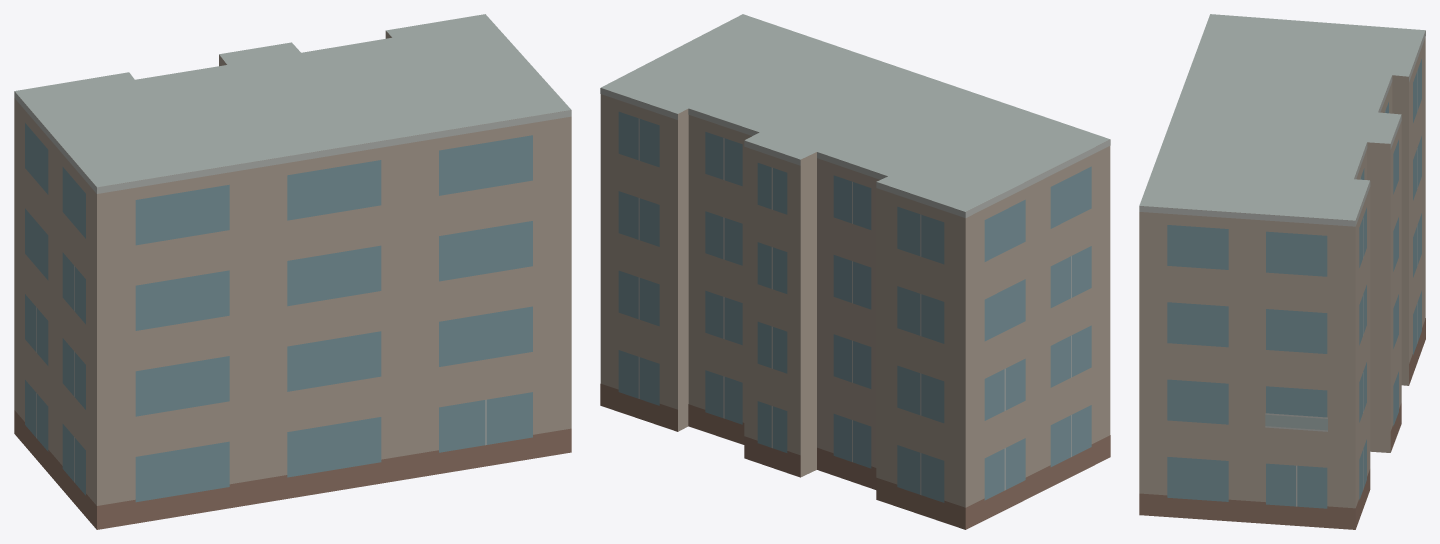
Rendered from survey-upis-32909037.glb.
The picture shows the model from 3 angles, left to right: view 1: azimuth 30°, elevation 25°; view 2: azimuth 150°, elevation 25°; view 3: azimuth 270°, elevation 25°; orthographic projection. The views are drawn at different scales.
Visible parts, largest first — view 1: survey-upis-32909037.tmp; view 2: survey-upis-32909037.tmp; view 3: survey-upis-32909037.tmp.
Boxes of the visible parts, x1,y1,x2,y2 form: survey-upis-32909037.tmp: [14, 14, 571, 529]; survey-upis-32909037.tmp: [600, 14, 1110, 529]; survey-upis-32909037.tmp: [1139, 14, 1425, 529].
Bounding box in the file's own units: 17.92 × 12.5 × 10.5.
